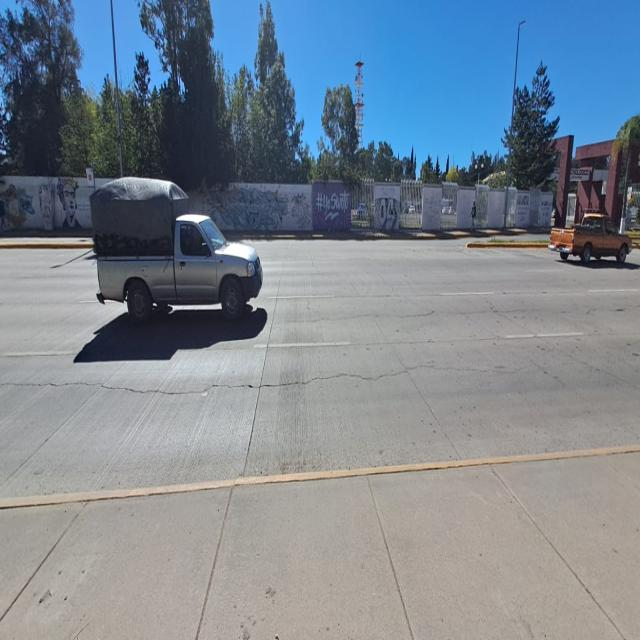Auto: (88, 174, 266, 327), (550, 206, 633, 270)
Autobus: (471, 201, 477, 231)
